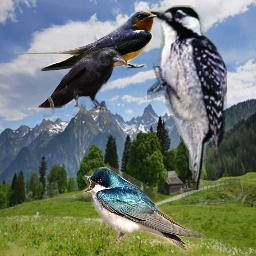Crow: (34, 47, 127, 117)
Swallow: (82, 166, 204, 252), (12, 9, 157, 71)
Woodpecker: (147, 5, 227, 190)
